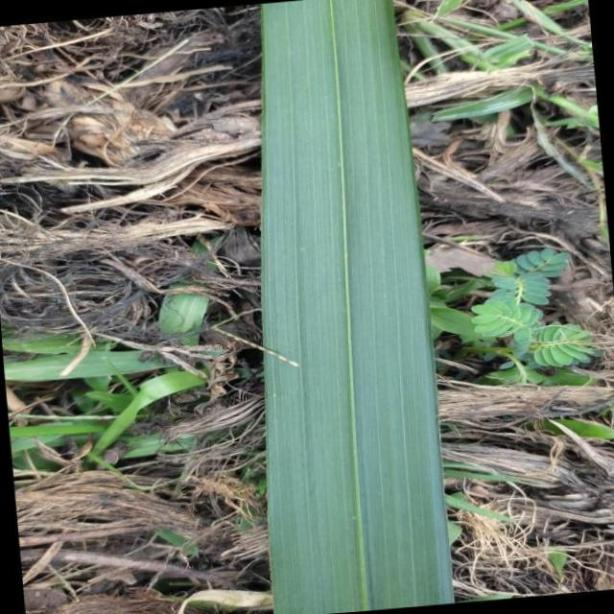Healthy: (260, 3, 457, 614)
